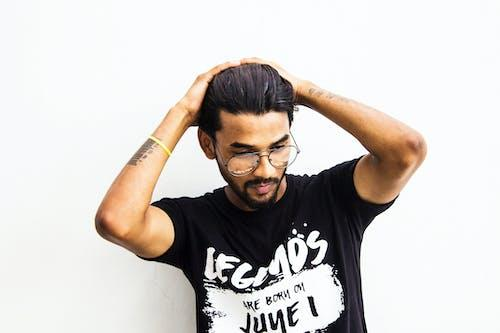eyeglasses: (218, 143, 300, 183)
